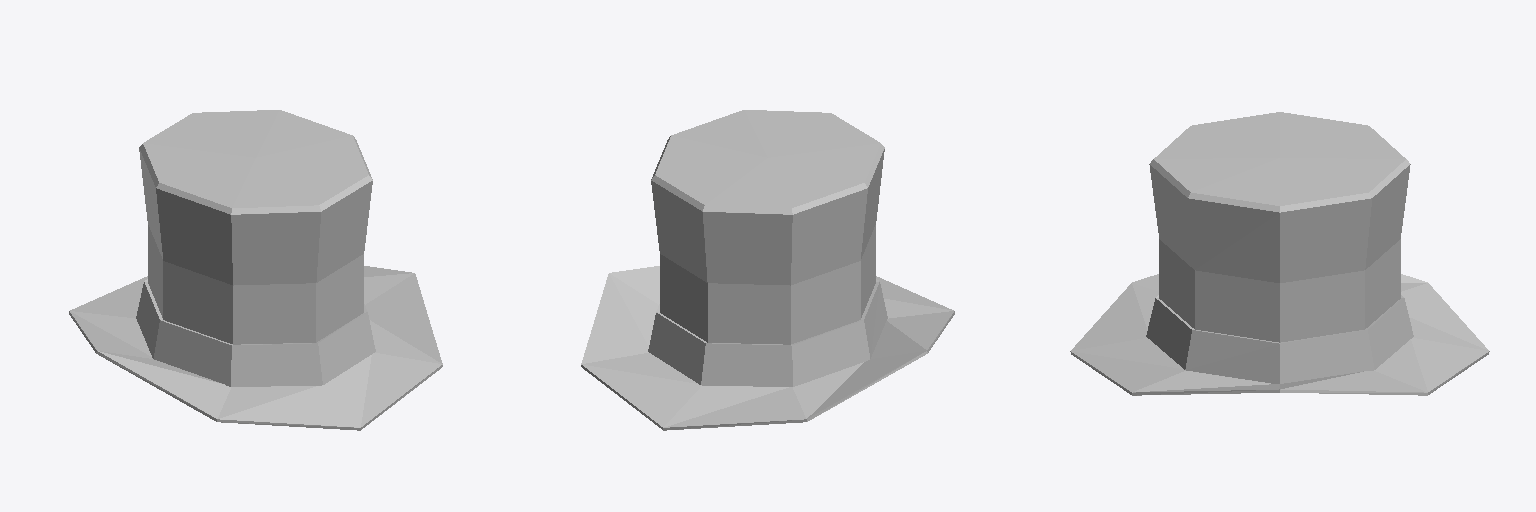
File: tophat.obj
The picture shows the model from 3 angles: view 1: azimuth 30°, elevation 25°; view 2: azimuth 150°, elevation 25°; view 3: azimuth 270°, elevation 25°; orthographic projection.
Size of the model in its own units: 3.26 by 1.91 by 3.7.